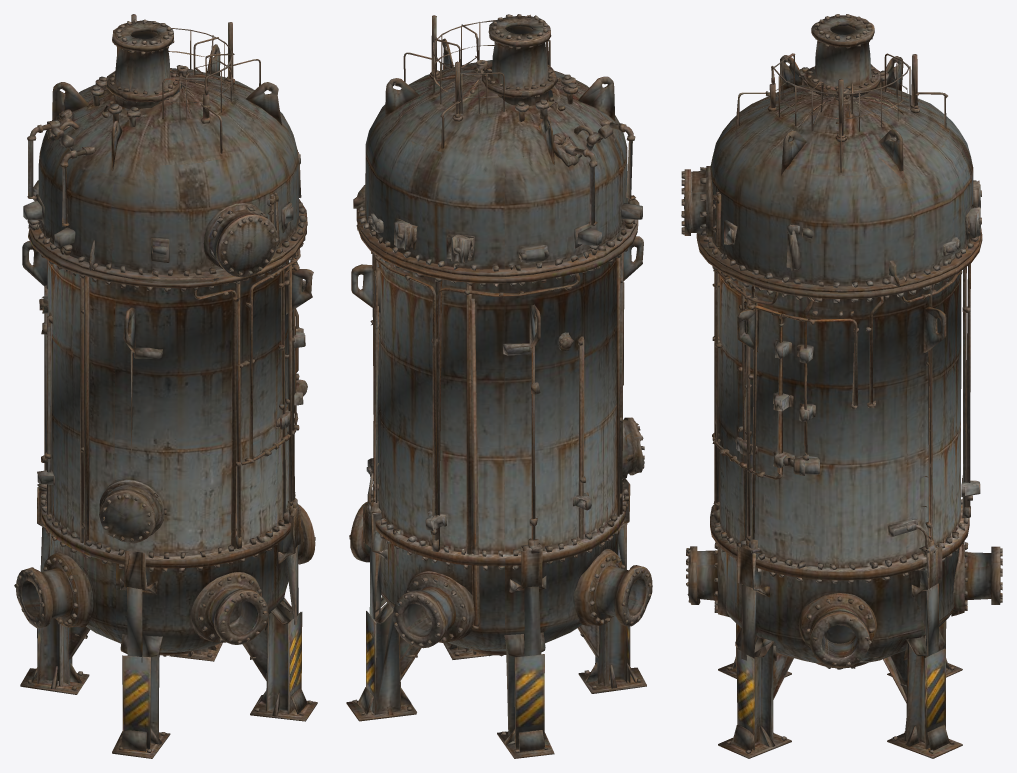
The model's file is reactor-steam-generator.glb.
3 renders of one model, left to right at view 1: azimuth 30°, elevation 25°; view 2: azimuth 150°, elevation 25°; view 3: azimuth 270°, elevation 25°, orthographic.
Visible parts, largest first — view 1: reactor-steam-generator; view 2: reactor-steam-generator; view 3: reactor-steam-generator.
Part boxes in pixels (x1,y1,x2,y2): reactor-steam-generator: (14, 14, 317, 758); reactor-steam-generator: (346, 14, 652, 758); reactor-steam-generator: (681, 14, 1002, 758).
Size of the model in its own units: 4.71 by 11 by 4.77.
Materials: 1 (1 with a texture image).
